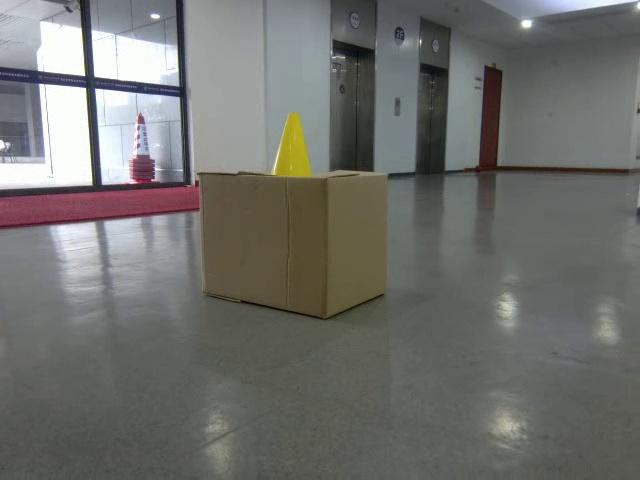yellow_barrel: (269, 112, 319, 177)
